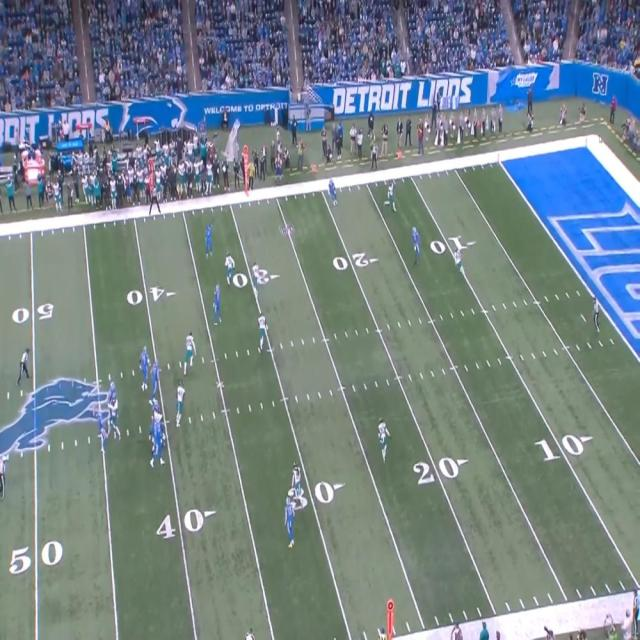db: (377, 419, 388, 454), (294, 464, 304, 496), (386, 185, 394, 210), (454, 250, 462, 270), (225, 254, 232, 276)
lb: (258, 315, 266, 344), (253, 264, 260, 288)
qb: (96, 406, 108, 452)
skill: (284, 496, 293, 548), (214, 283, 221, 322), (207, 223, 214, 254), (328, 178, 336, 205), (412, 228, 418, 261)
